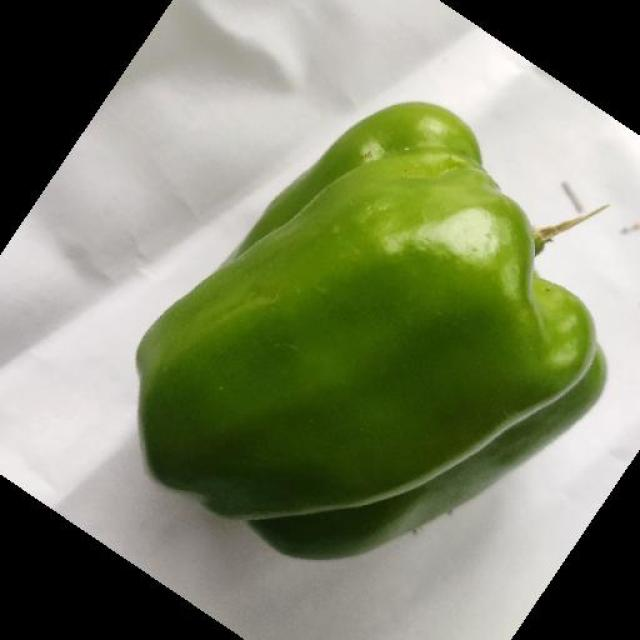Fresh_Capsicum: (163, 78, 579, 577)
